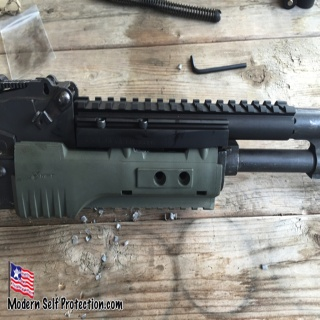rifle: (1, 70, 320, 223)
